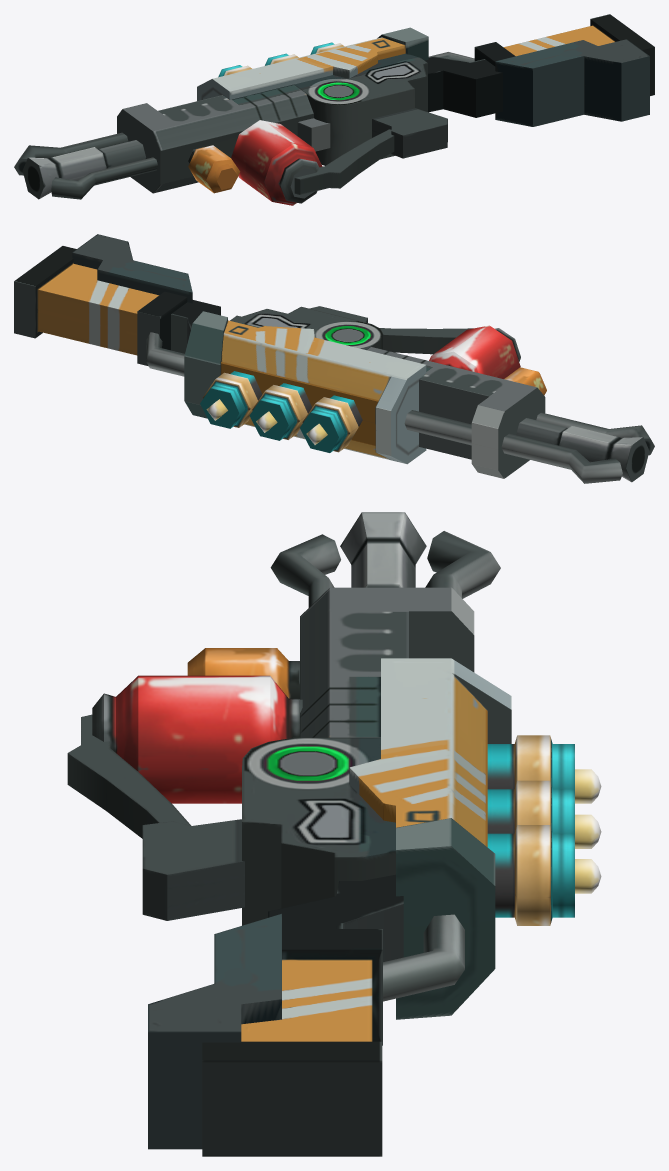
Rendered from weapon_bubble.FBX.
The picture shows the model from 3 angles, top to bottom: view 1: azimuth 30°, elevation 25°; view 2: azimuth 150°, elevation 25°; view 3: azimuth 270°, elevation 25°; orthographic projection. The views are drawn at different scales.
Parts seen in each view (by area): view 1: weapon_Bubble; view 2: weapon_Bubble; view 3: weapon_Bubble.
Boxes of the visible parts, <box> form: weapon_Bubble: <box>14,14,654,205</box>; weapon_Bubble: <box>14,234,654,483</box>; weapon_Bubble: <box>67,512,601,1156</box>.
Size of the model in its own units: 265 by 37.12 by 106.
